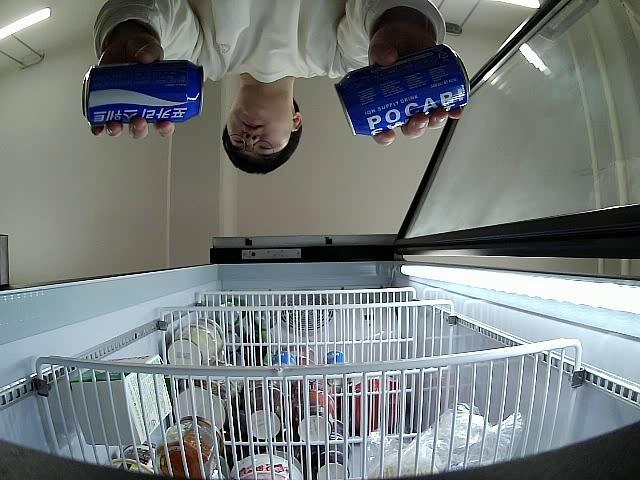13_pocariSweat: (334, 42, 469, 136), (81, 59, 205, 128)
